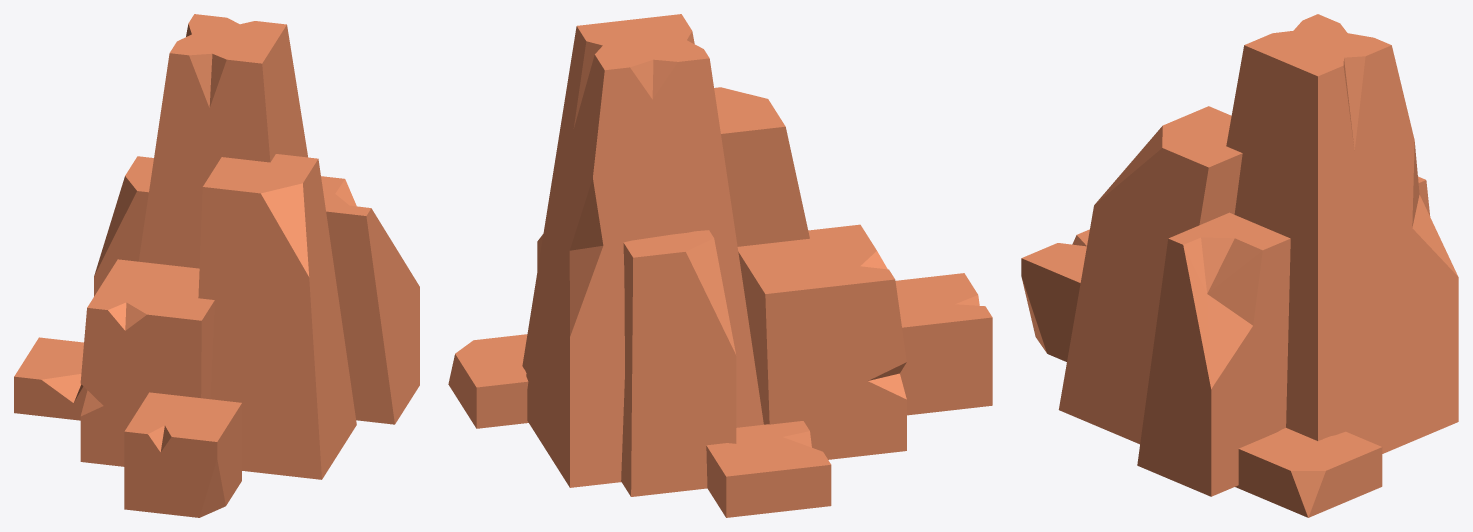
Rendered from rock.fbx.
3 views of the same model, side by side, from view 1: azimuth 30°, elevation 25°; view 2: azimuth 150°, elevation 25°; view 3: azimuth 270°, elevation 25° (orthographic). The views are drawn at different scales.
Visible parts, largest first — view 1: Cube.015; view 2: Cube.015; view 3: Cube.015.
Part boxes in pixels (box(x1,y1,x2,y2)): Cube.015: box(14, 14, 419, 517); Cube.015: box(448, 14, 992, 517); Cube.015: box(1021, 14, 1458, 517).
Bounding box in the file's own units: 361 × 314 × 328.
